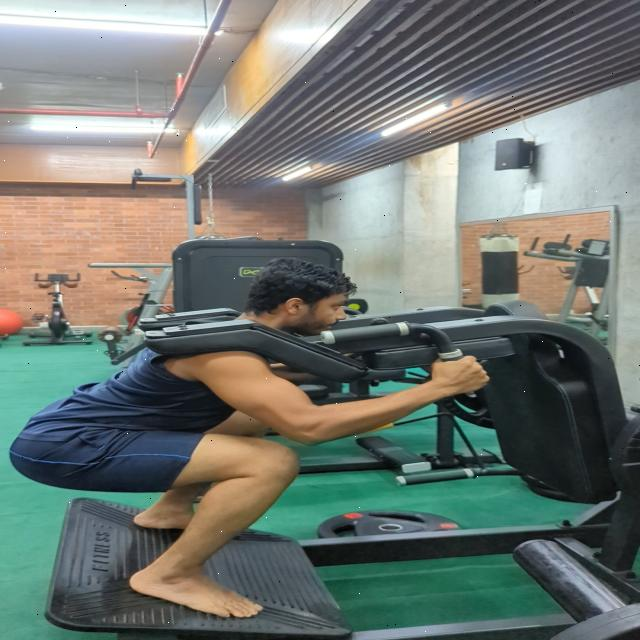Normal_SquatsWithBarbell: (3, 215, 529, 640)
